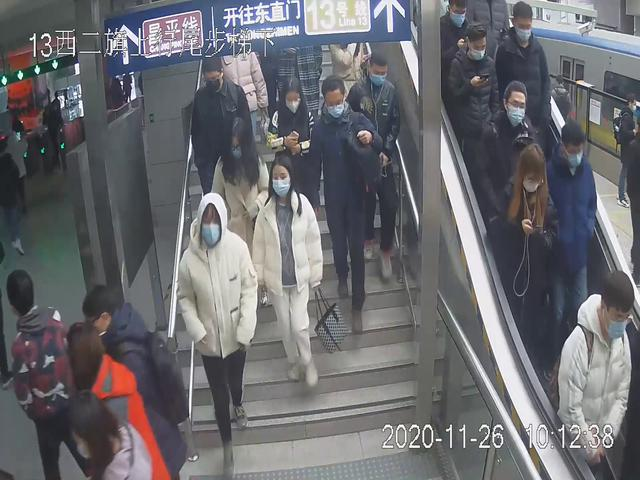person: (175, 187, 260, 480), (251, 157, 345, 392), (306, 74, 386, 338), (550, 266, 640, 480), (481, 141, 561, 378), (537, 119, 599, 358), (186, 49, 260, 236), (344, 46, 401, 288), (207, 116, 279, 304), (493, 1, 554, 176), (445, 22, 503, 200)
